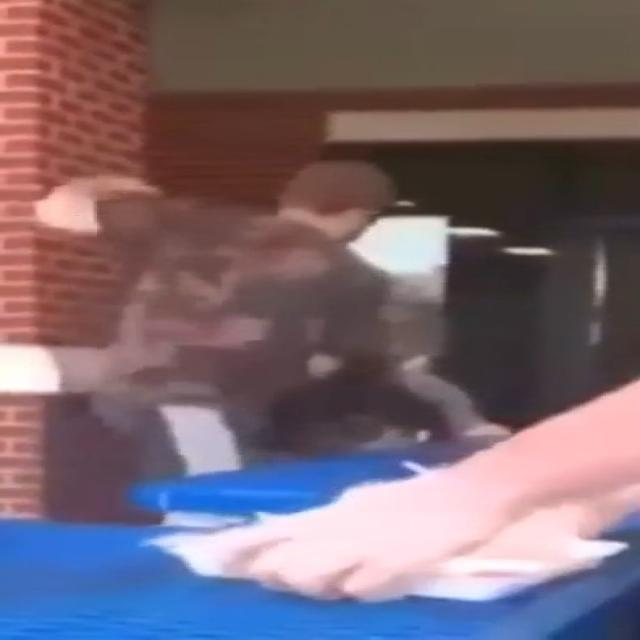violence: (35, 156, 514, 444)
